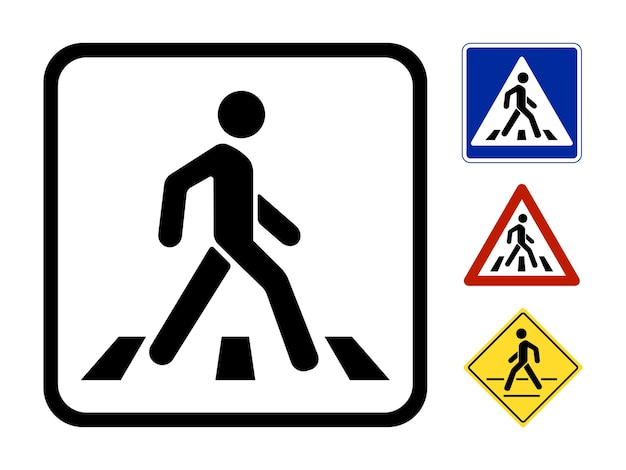CrossSign: (39, 39, 433, 430), (461, 41, 585, 164), (458, 308, 585, 427), (459, 183, 582, 286)
